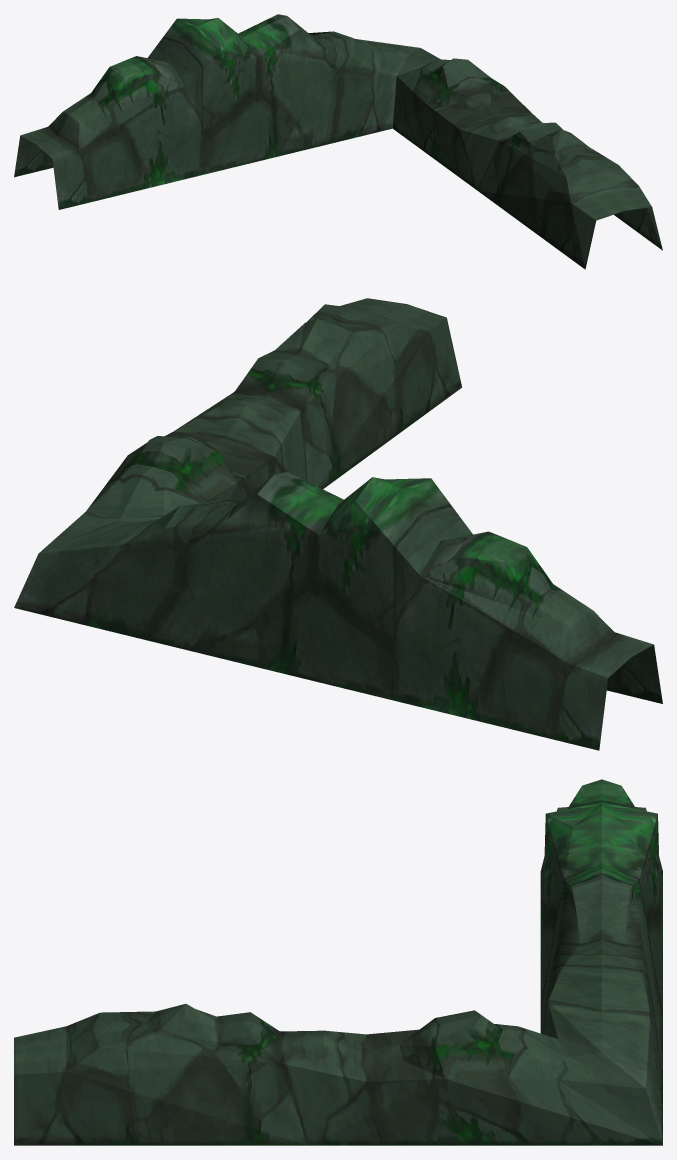
The model's file is stemple_cap_concave_02.fbx.
The picture shows the model from 3 angles, top to bottom: view 1: azimuth 30°, elevation 25°; view 2: azimuth 150°, elevation 25°; view 3: azimuth 270°, elevation 25°; orthographic projection. The views are drawn at different scales.
Visible parts, largest first — view 1: sunken_tileset/sunken_quarter02a_mat; view 2: sunken_tileset/sunken_quarter02a_mat; view 3: sunken_tileset/sunken_quarter02a_mat.
Boxes of the visible parts, x1,y1,x2,y2 form: sunken_tileset/sunken_quarter02a_mat: (14, 14, 662, 269); sunken_tileset/sunken_quarter02a_mat: (14, 298, 662, 750); sunken_tileset/sunken_quarter02a_mat: (14, 779, 662, 1145).
Bounding box in the file's own units: 4.42 × 1.35 × 4.42.
